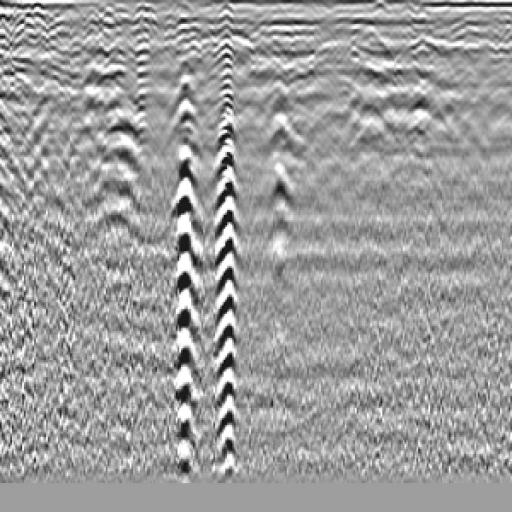metalic: (79, 43, 161, 262)
